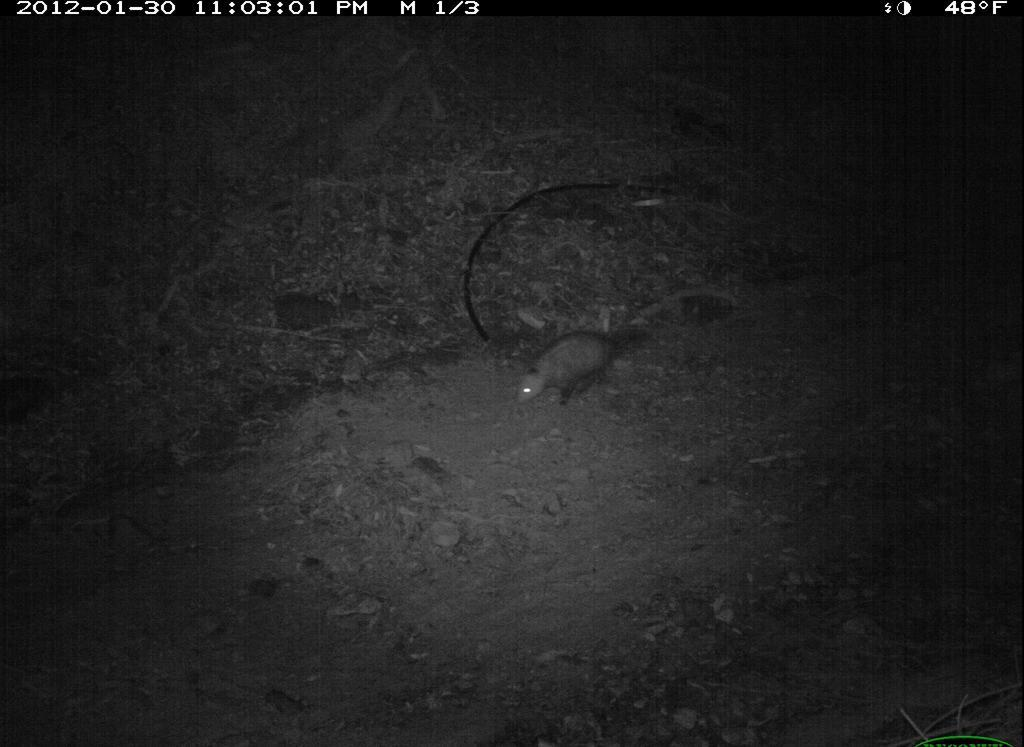opossum: (506, 315, 651, 414)
